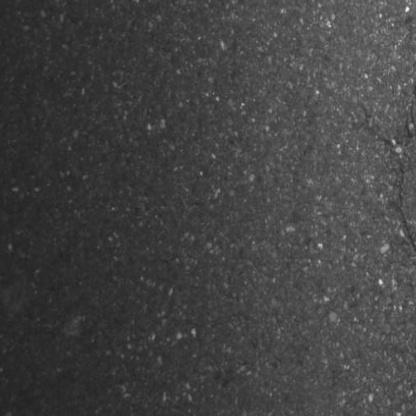Cracks: (393, 166, 416, 269), (408, 52, 416, 160)
